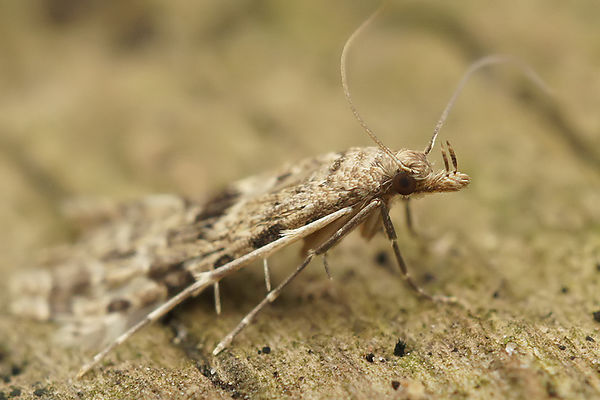Alucitidae: (72, 4, 566, 378)
moth: (70, 2, 564, 376)
